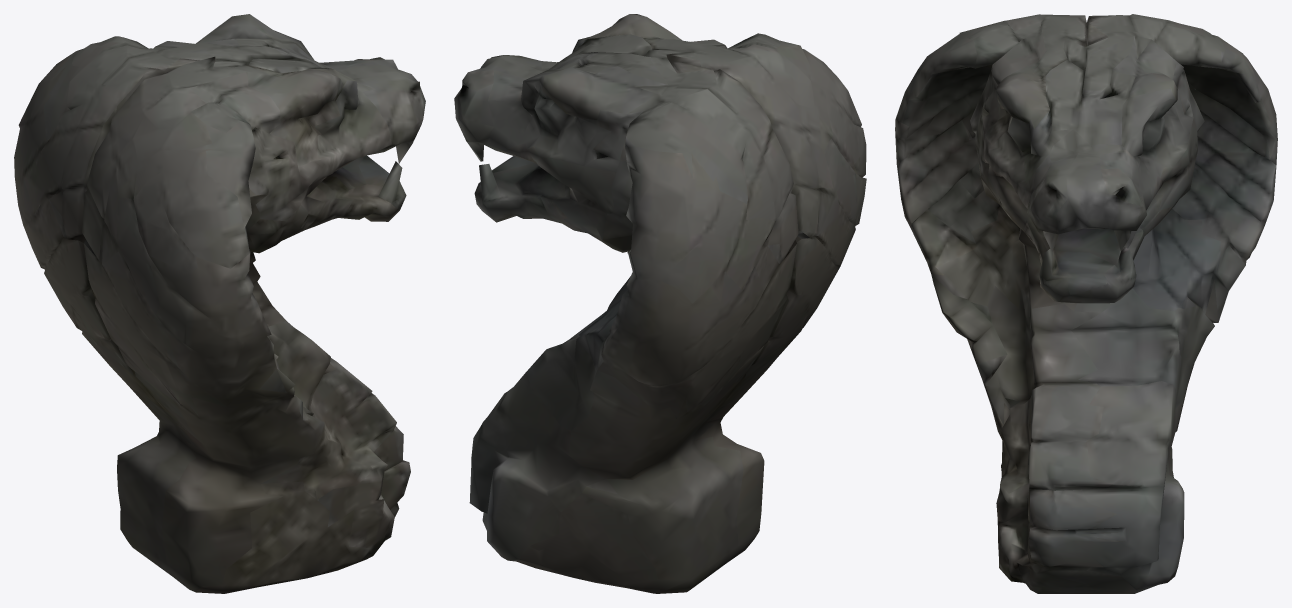
The model's file is serpent-head.glb.
The picture shows the model from 3 angles, left to right: view 1: azimuth 30°, elevation 25°; view 2: azimuth 150°, elevation 25°; view 3: azimuth 270°, elevation 25°; orthographic projection. The views are drawn at different scales.
Visible parts, largest first — view 1: tripo_node_486f2e02-f92b-477a-9da0-ea6f42440500; view 2: tripo_node_486f2e02-f92b-477a-9da0-ea6f42440500; view 3: tripo_node_486f2e02-f92b-477a-9da0-ea6f42440500.
Part boxes in pixels (<box>): tripo_node_486f2e02-f92b-477a-9da0-ea6f42440500: <box>14,14,425,593</box>; tripo_node_486f2e02-f92b-477a-9da0-ea6f42440500: <box>454,14,866,593</box>; tripo_node_486f2e02-f92b-477a-9da0-ea6f42440500: <box>895,14,1277,593</box>.
Size of the model in its own units: 0.6781 by 1 by 0.7069.
1 material, 1 textured.
